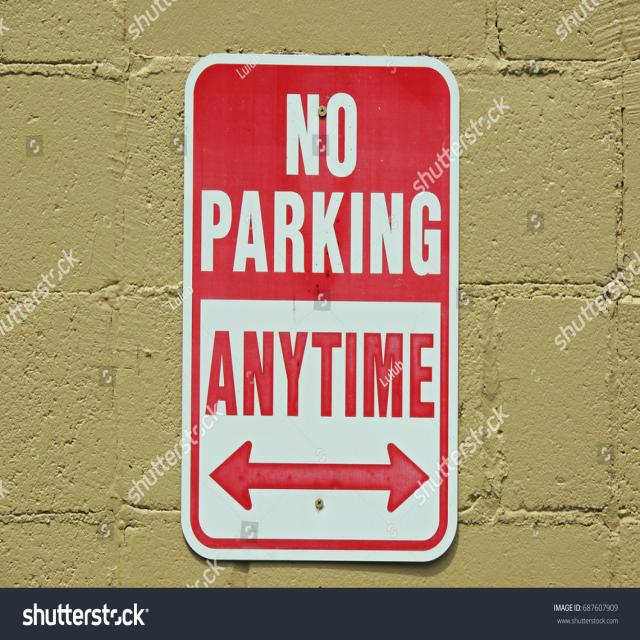Traffic sign: (203, 73, 449, 298)
